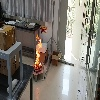fire: (34, 34, 42, 69)
